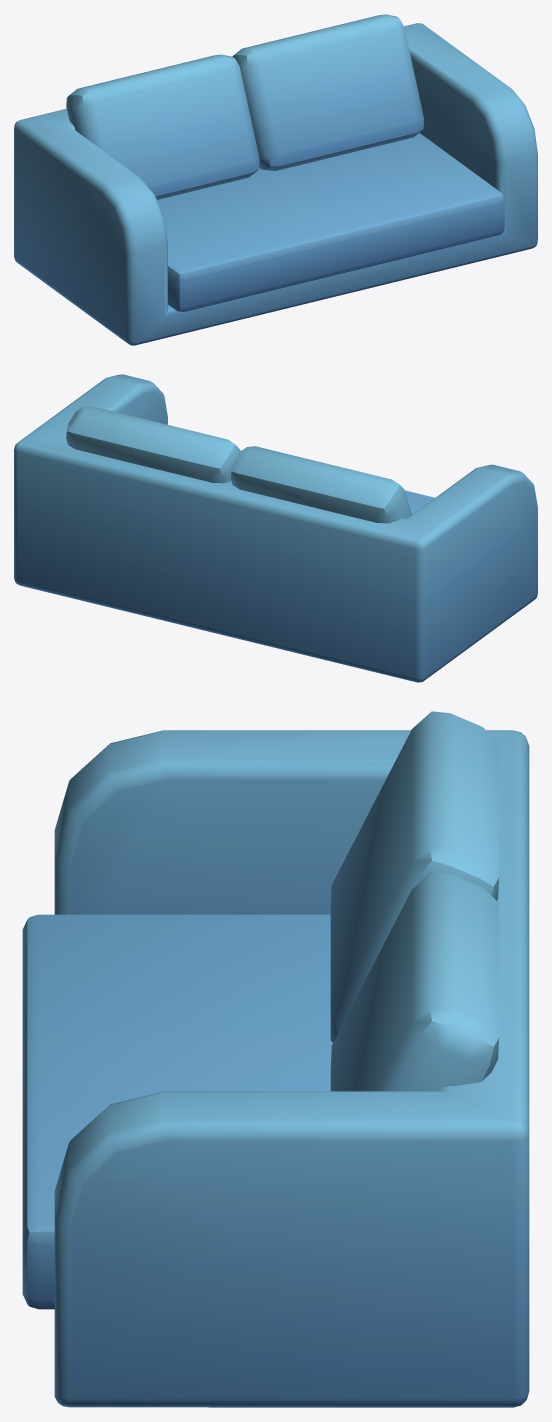
File: kaykit-couch.glb
3 renders of one model, top to bottom at view 1: azimuth 30°, elevation 25°; view 2: azimuth 150°, elevation 25°; view 3: azimuth 270°, elevation 25°, orthographic. The views are drawn at different scales.
Visible parts, largest first — view 1: couch; view 2: couch; view 3: couch.
Boxes of the visible parts, box(x1,y1,x2,y2) form: couch: box(14, 14, 537, 345); couch: box(14, 374, 537, 682); couch: box(22, 711, 529, 1407).
Bounding box in the file's own units: 3 × 1.22 × 1.6.
1 material, 1 textured.
